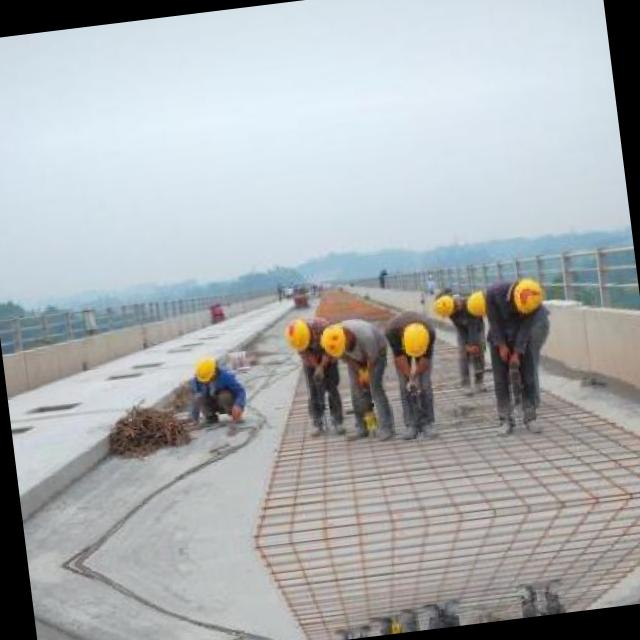helmet: (278, 310, 317, 366), (504, 267, 544, 317), (398, 316, 434, 366), (318, 316, 354, 357), (459, 284, 498, 320), (190, 352, 223, 383), (428, 290, 460, 316)
